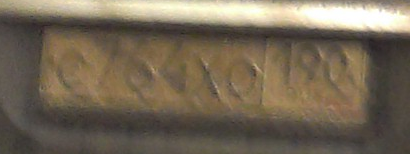character: (122, 38, 157, 96), (159, 39, 190, 97), (193, 52, 225, 104), (227, 51, 258, 101), (295, 40, 322, 94), (323, 41, 350, 95), (55, 45, 88, 89), (98, 37, 121, 92), (272, 40, 295, 91)
